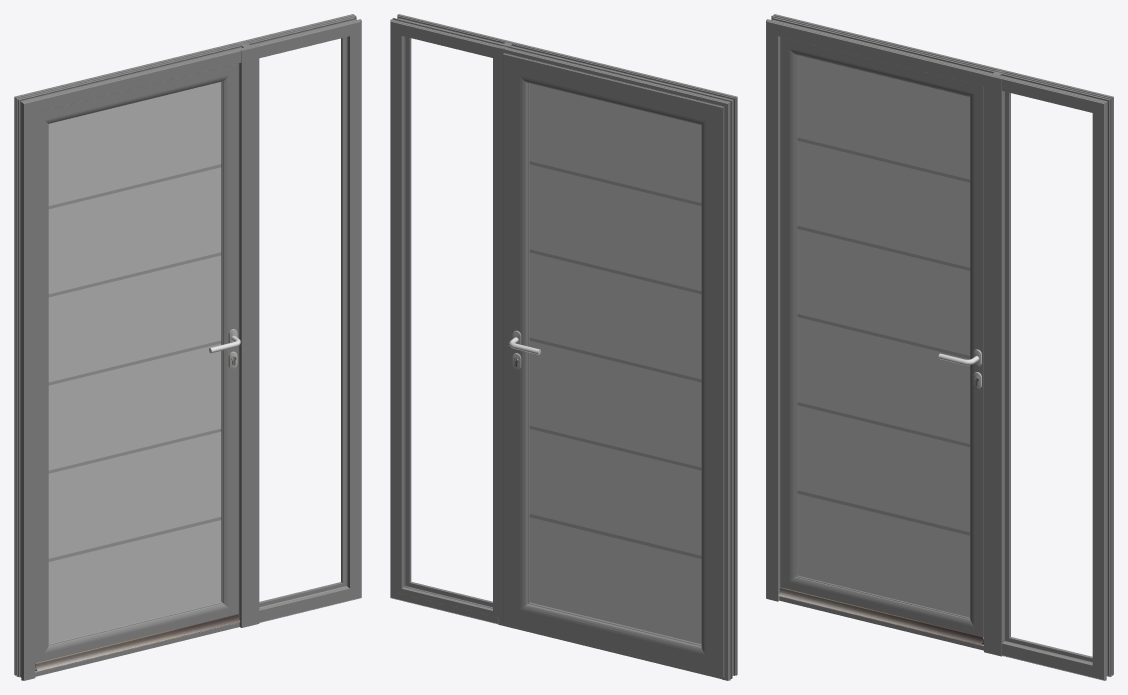
The picture shows the model from 3 angles, left to right: view 1: azimuth 30°, elevation 25°; view 2: azimuth 150°, elevation 25°; view 3: azimuth 330°, elevation 25°; orthographic projection.
Parts seen in each view (by area): view 1: fosco_32, aroFixo, aroMovel, montanteCentral, transparente_32, bite, borracha, escovas, rodaPe; view 2: fosco_32, aroMovel, aroFixo, bite, transparente_32, montanteCentral, borracha, rodaPe; view 3: fosco_32, aroFixo, aroMovel, montanteCentral, transparente_32, bite, escovas, borracha, rodaPe.
Part boxes in pixels (<box>): fosco_32: <box>48,82,221,643</box>; aroFixo: <box>14,14,361,680</box>; aroMovel: <box>35,63,238,663</box>; montanteCentral: <box>238,42,259,627</box>; transparente_32: <box>48,164,221,561</box>; bite: <box>259,37,346,607</box>; borracha: <box>259,37,345,606</box>; escovas: <box>35,614,240,671</box>; rodaPe: <box>35,622,239,676</box>; fosco_32: <box>529,83,701,644</box>; aroMovel: <box>503,53,724,677</box>; aroFixo: <box>390,14,737,680</box>; bite: <box>396,29,498,617</box>; transparente_32: <box>529,161,701,558</box>; montanteCentral: <box>498,40,518,626</box>; borracha: <box>404,36,492,608</box>; rodaPe: <box>505,624,721,679</box>; fosco_32: <box>797,55,969,617</box>; aroFixo: <box>766,14,1113,680</box>; aroMovel: <box>780,37,983,638</box>; montanteCentral: <box>984,70,1004,656</box>; transparente_32: <box>797,137,969,535</box>; bite: <box>1005,91,1092,661</box>; escovas: <box>778,587,983,645</box>; borracha: <box>1006,92,1092,660</box>; rodaPe: <box>779,596,983,650</box>.
Size of the model in its own units: 1320 by 2149 by 185.
10 materials, 4 textured.
